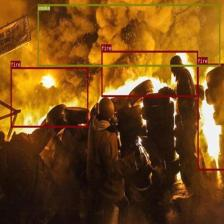fire: (10, 67, 88, 127), (101, 50, 198, 96), (197, 63, 224, 170)
smoke: (37, 4, 220, 66)
